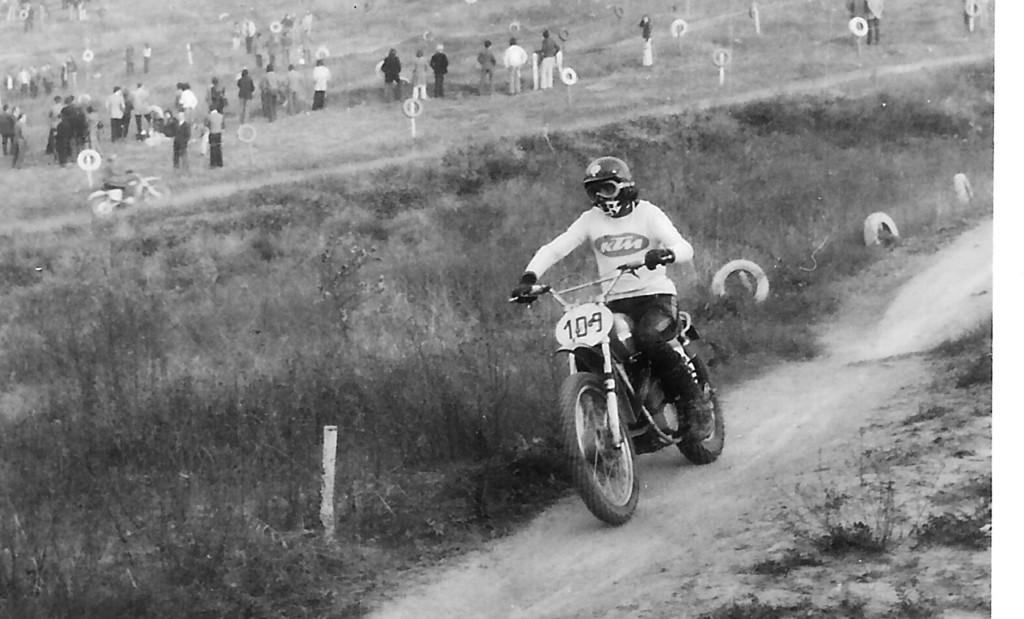Motorcycle: (550, 271, 728, 519), (87, 169, 172, 219)
